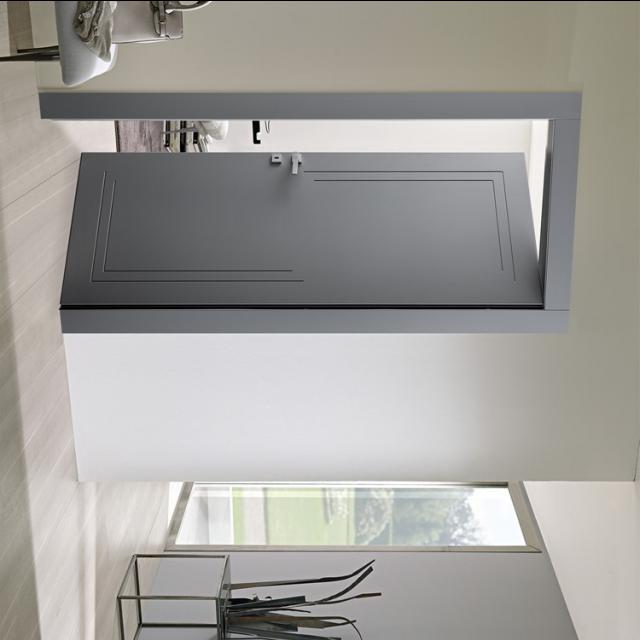open: (55, 102, 566, 334)
